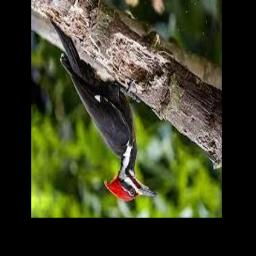Woodpecker: (48, 18, 158, 202)
